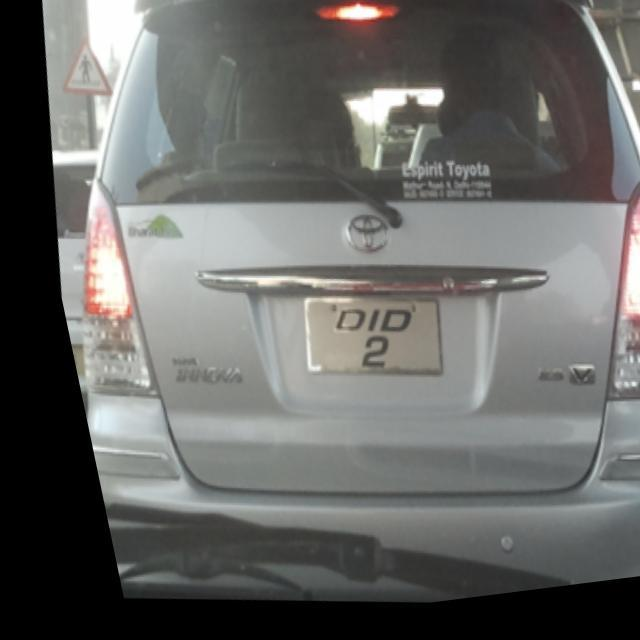license_plate: (280, 292, 438, 396)
